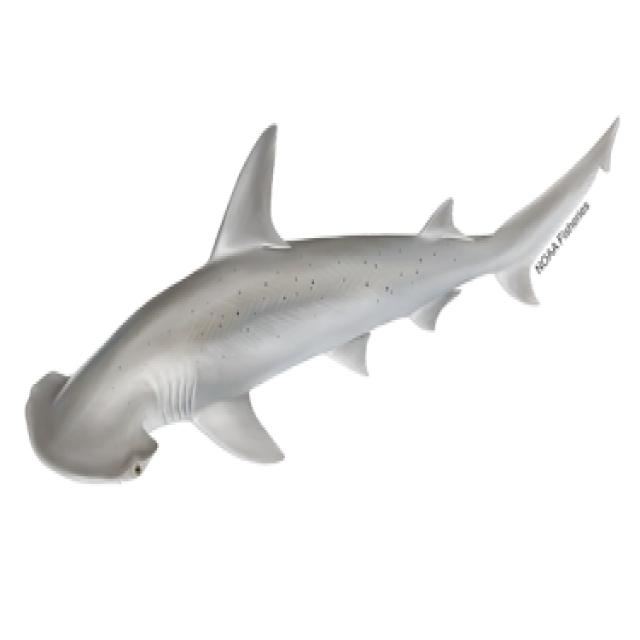gaviota: (26, 120, 618, 479)
